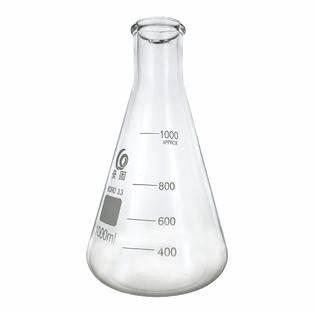Titrarion: (80, 13, 233, 297)
